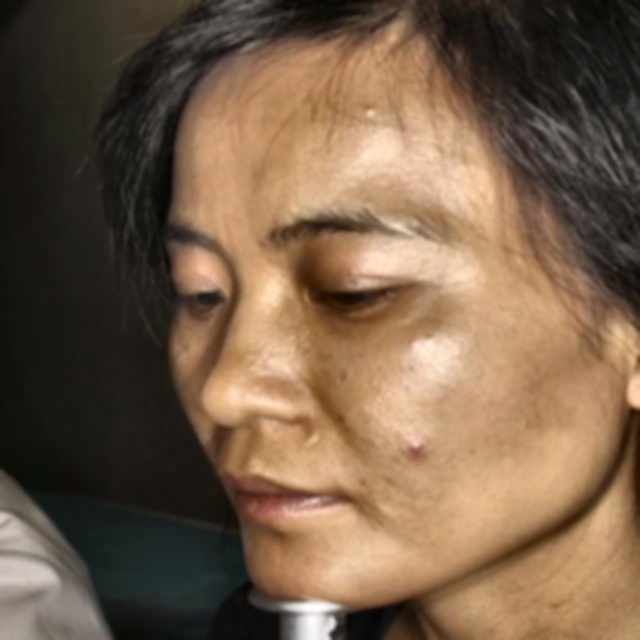comedone: (396, 432, 428, 471)
